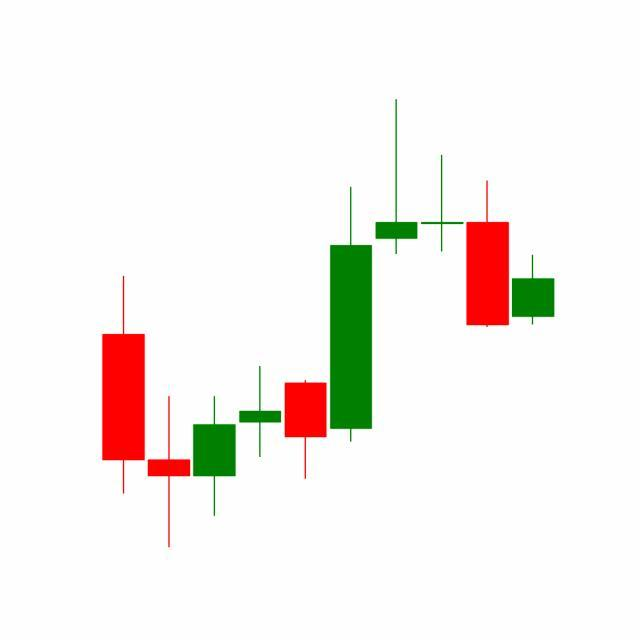Hikkake Pattern: (283, 99, 512, 485)
